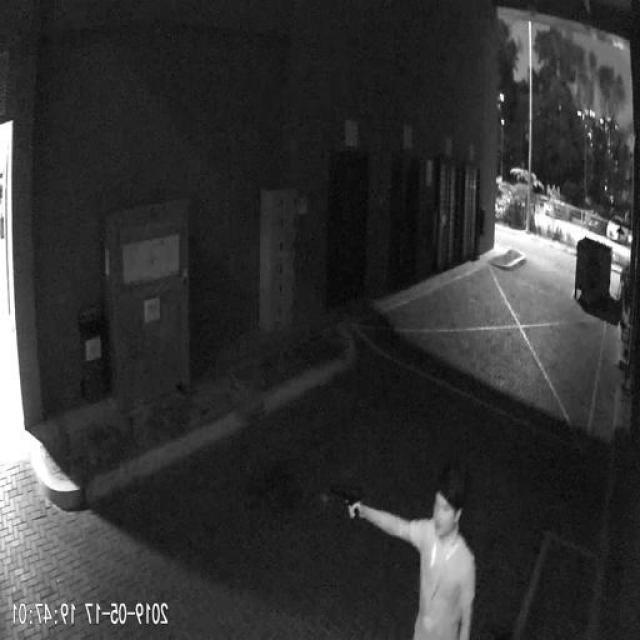Gun: (332, 482, 363, 518)
